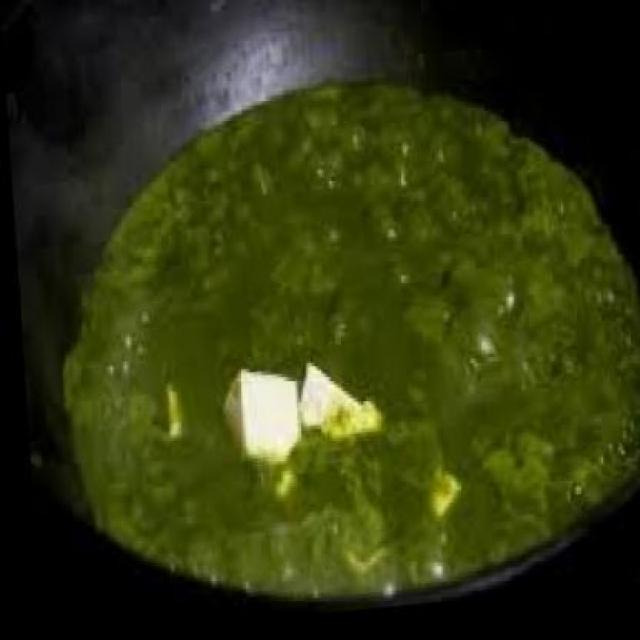palak_paneer: (43, 66, 640, 625)
